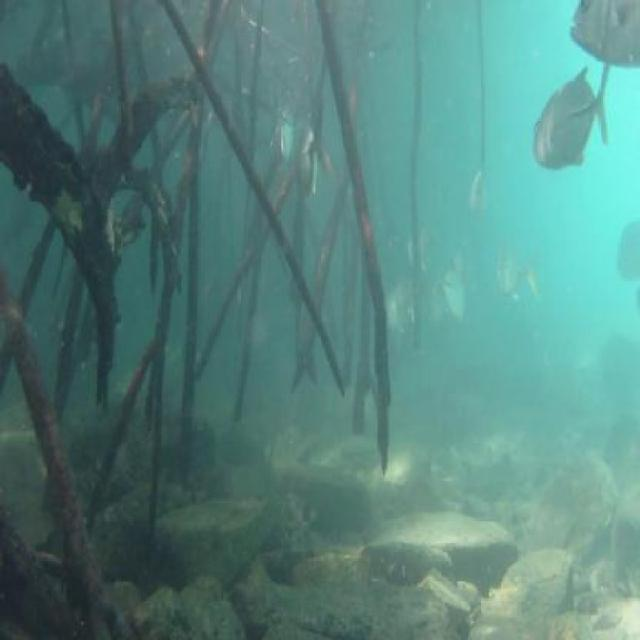Caranx_sexfasciatus_juvenile: (532, 63, 611, 177), (566, 0, 640, 77), (291, 104, 329, 205), (377, 270, 418, 338), (491, 241, 524, 316), (272, 81, 300, 161), (612, 214, 639, 292), (402, 218, 438, 276), (438, 262, 470, 327), (462, 164, 496, 222), (517, 255, 545, 307)
